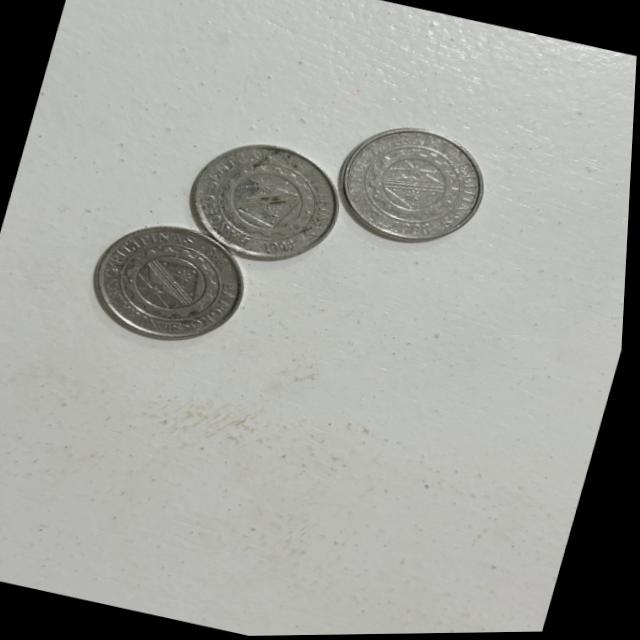1_Old_Back: (205, 153, 330, 258), (356, 134, 478, 238), (110, 234, 232, 336)
